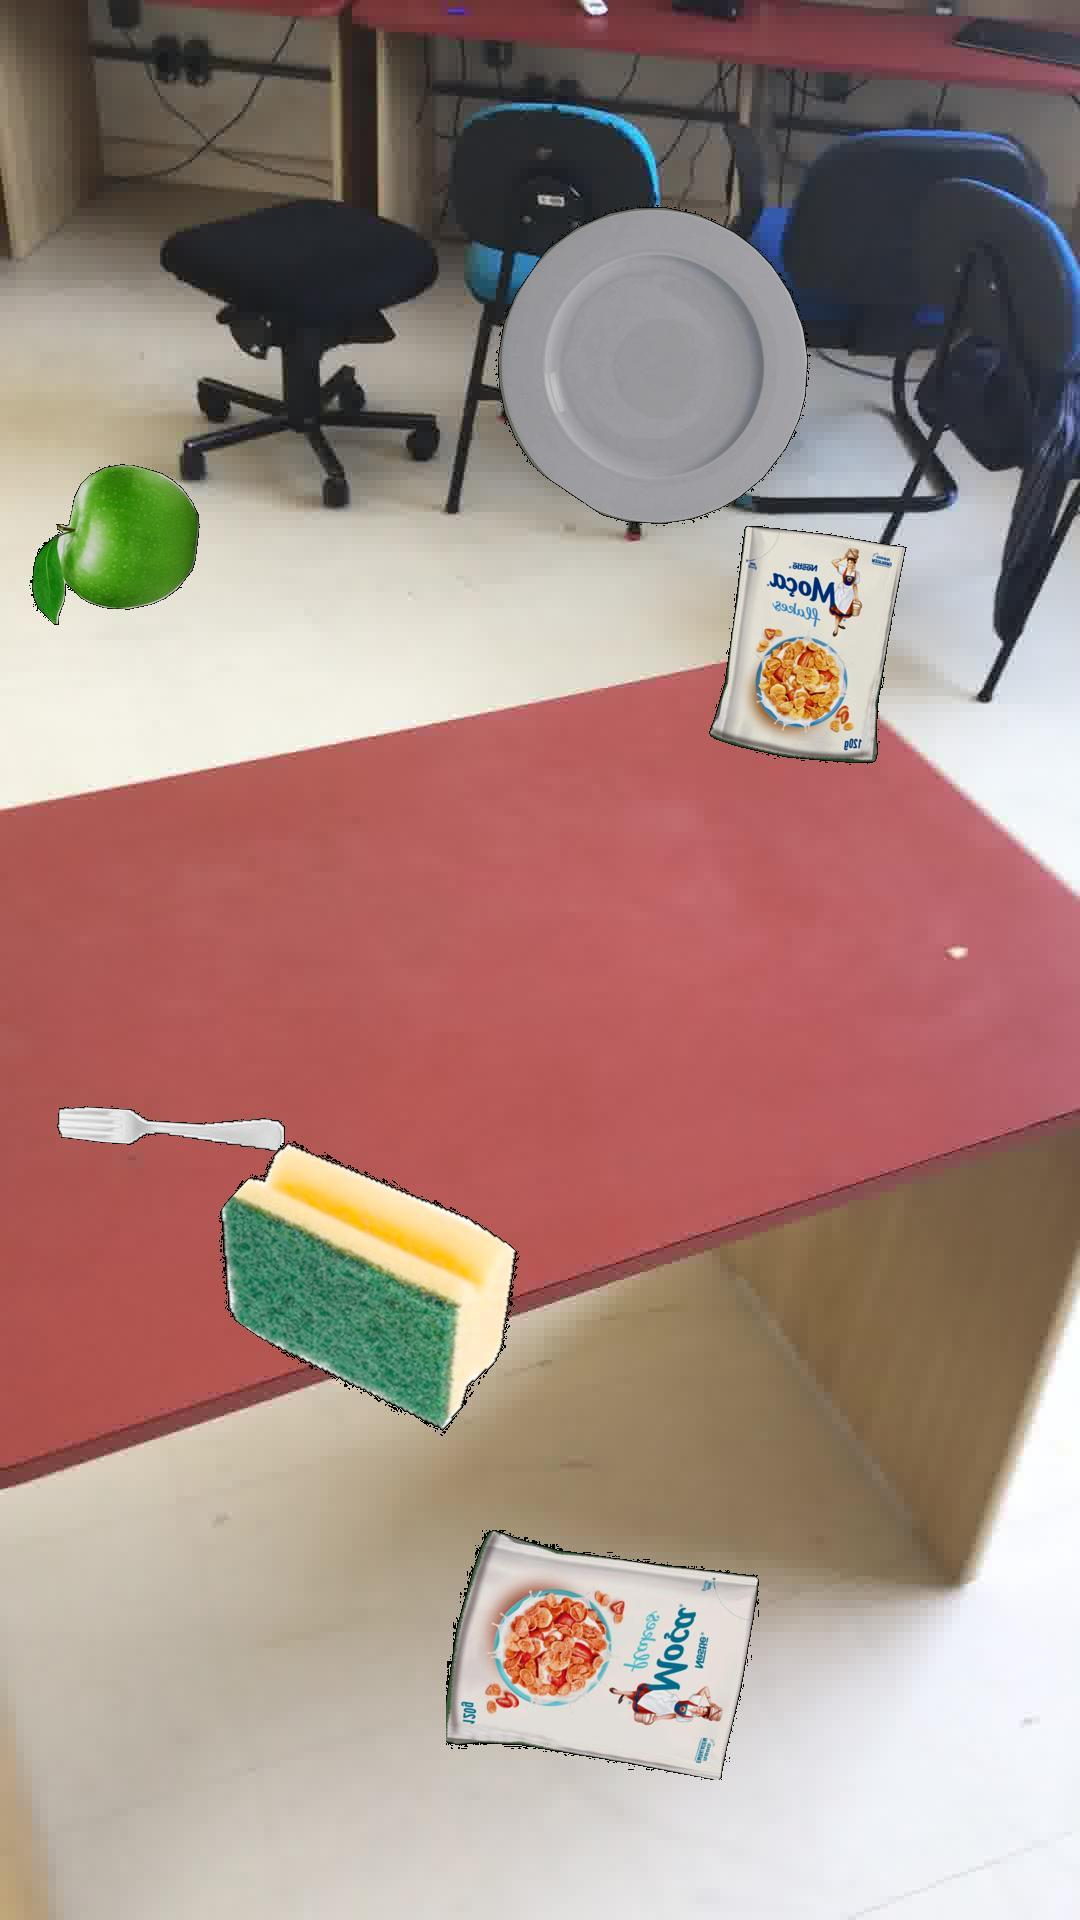corn flakes: (444, 1528, 757, 1779), (708, 525, 906, 762)
fork: (55, 1105, 284, 1150)
green apple: (29, 463, 199, 624)
plate: (493, 203, 810, 524)
sponge: (218, 1142, 517, 1429)
